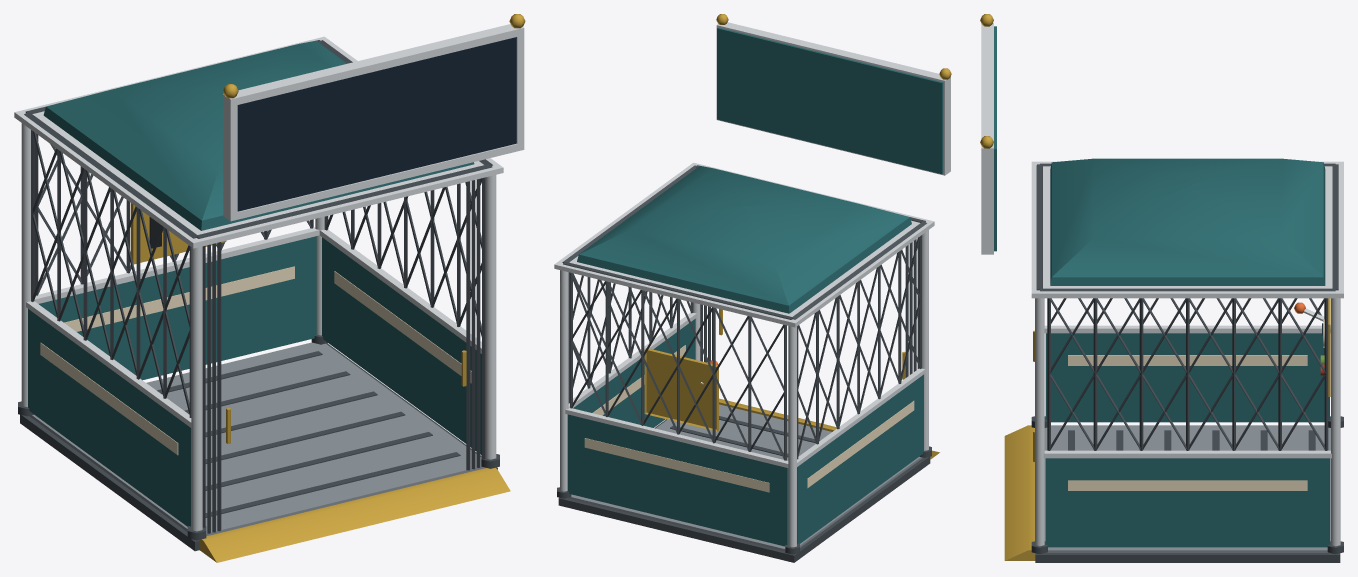
File: Lobby_ElevatorPad.fbx
3 renders of one model, left to right at view 1: azimuth 30°, elevation 25°; view 2: azimuth 150°, elevation 25°; view 3: azimuth 270°, elevation 25°, orthographic. The views are drawn at different scales.
Visible parts, largest first — view 1: Decor, Sign, Floor; view 2: Decor, Floor; view 3: Decor, Floor.
Boxes of the visible parts, x1=… form: Decor: x1=14, y1=14, x2=525, y2=562; Sign: x1=237, y1=37, x2=516, y2=211; Floor: x1=29, y1=342, x2=485, y2=536; Decor: x1=554, y1=14, x2=951, y2=562; Floor: x1=567, y1=404, x2=922, y2=551; Decor: x1=980, y1=14, x2=1343, y2=562; Floor: x1=1044, y1=425, x2=1330, y2=552.
Bounding box in the file's own units: 13.4 × 19.9 × 15.5.
